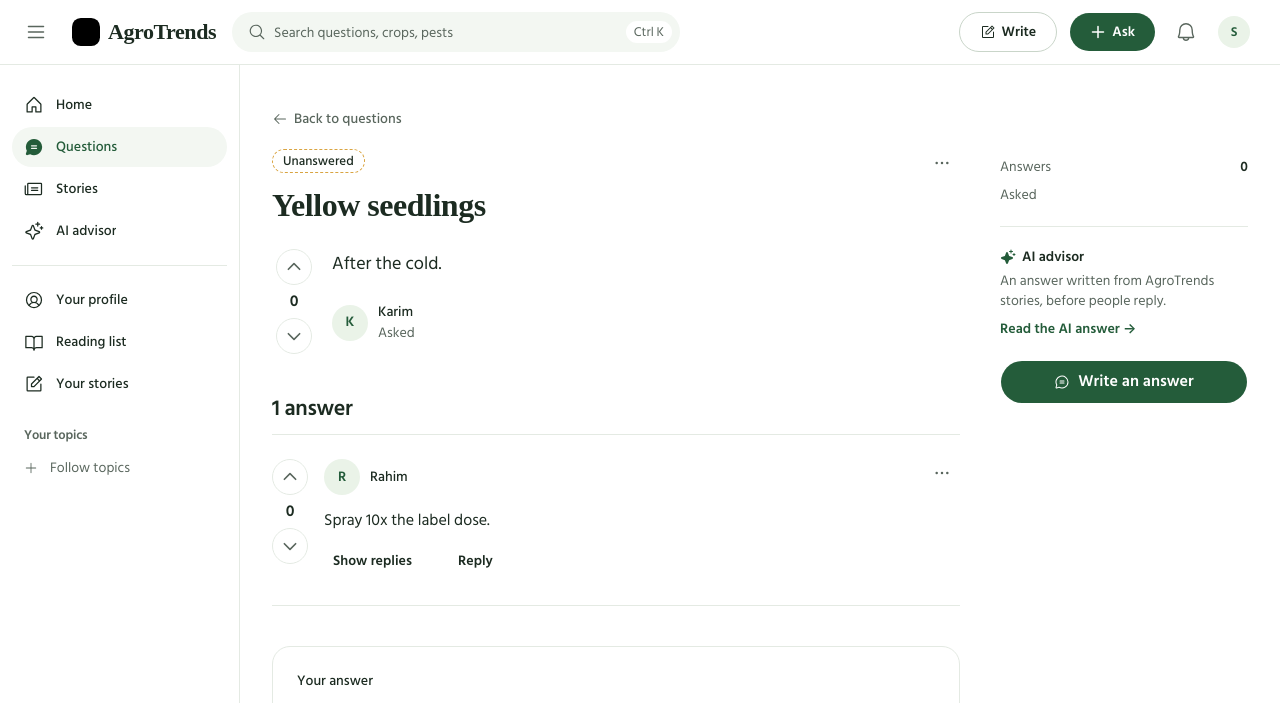
Test case: reporting the same thing again counts as reported (409)
Expected: the heading "Yellow seedlings" is shown, [272,187,486,223]
Click the button named "More actions" in the row of "Unanswered".
click(942, 163)  # box [924,145,960,181]
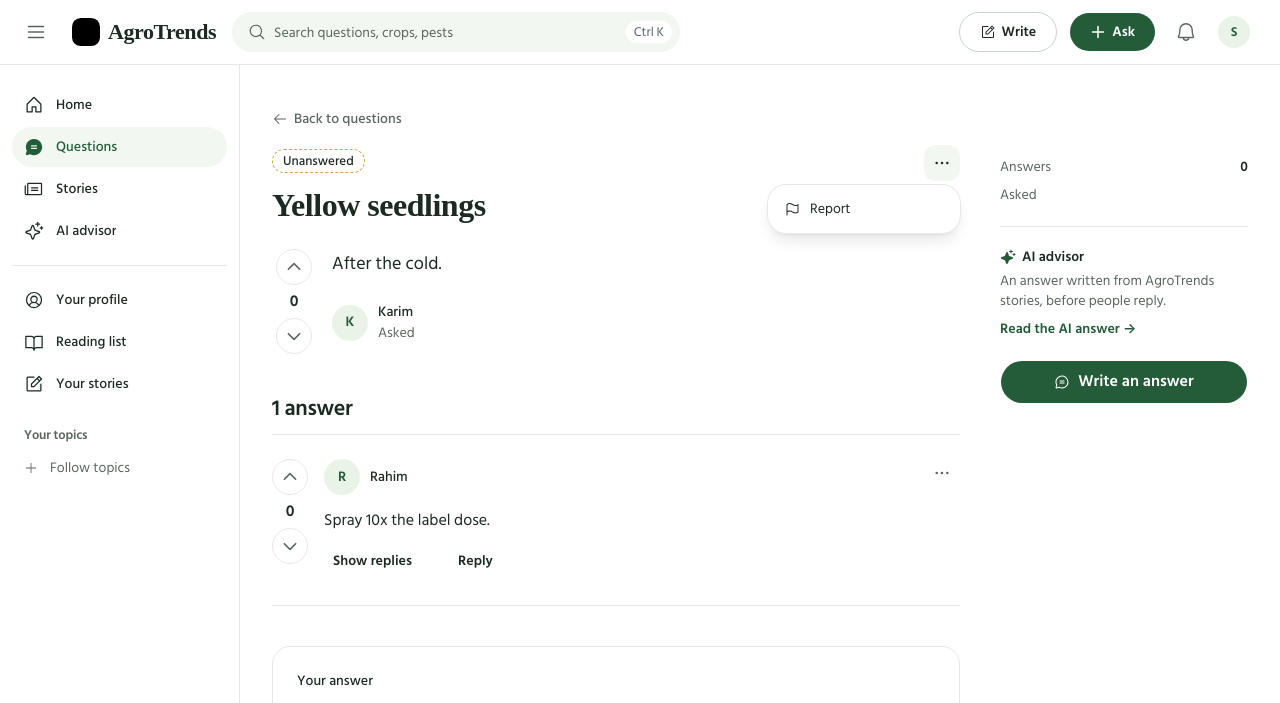
Click the menu item "Report".
click(817, 208)  # box [784,197,850,220]
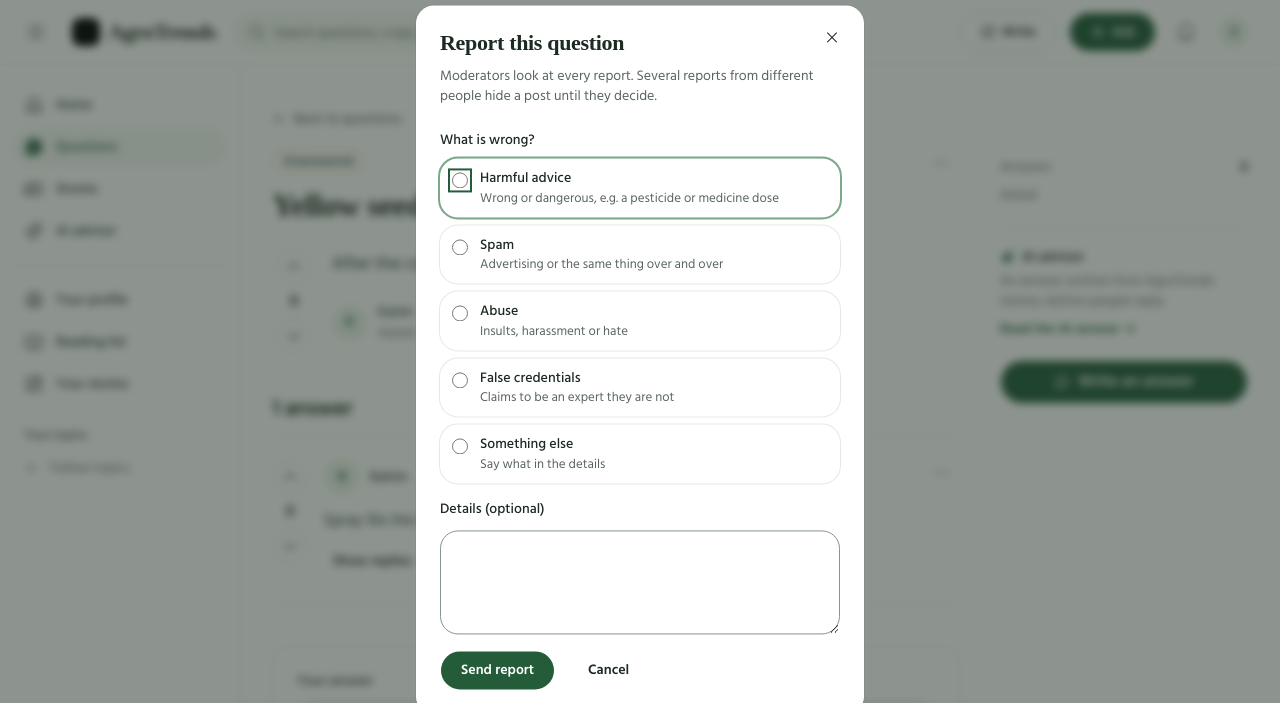
Click the radio button labelled "Spam Advertising or the same thing over and over".
click(460, 247)  # box [452,239,468,255]
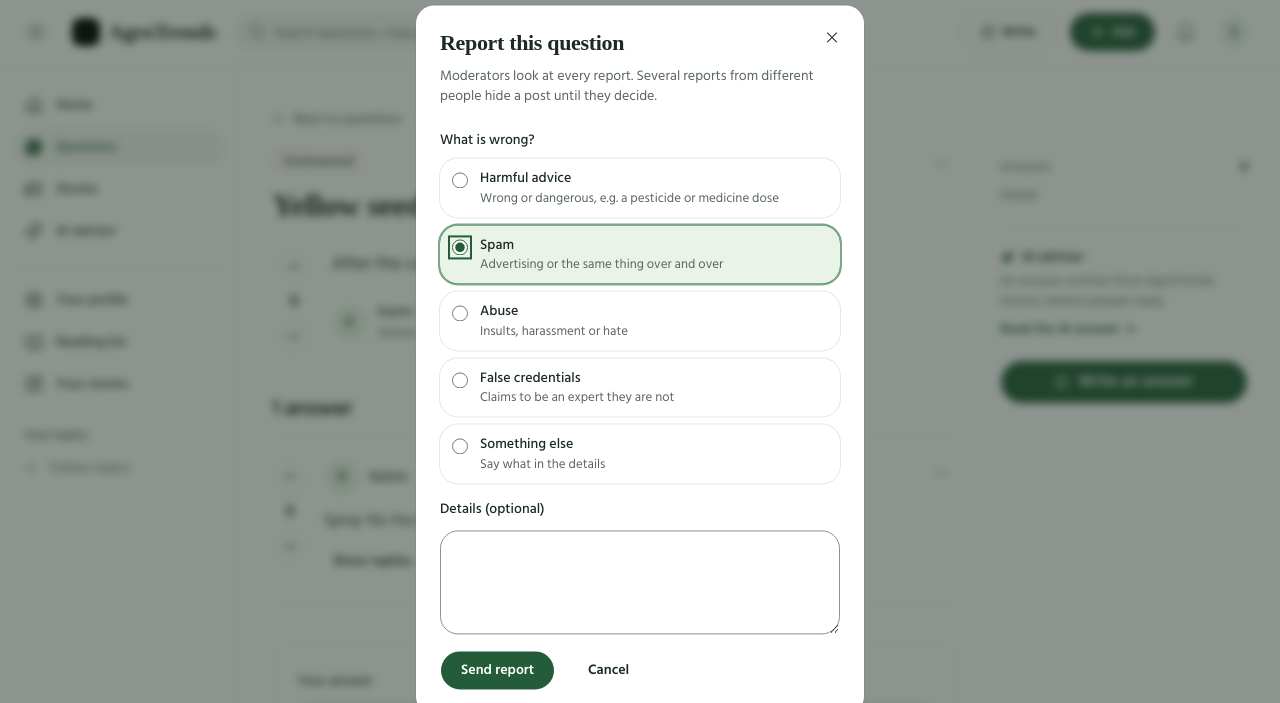
Click the button "Send report".
click(498, 671)  # box [440,651,555,691]
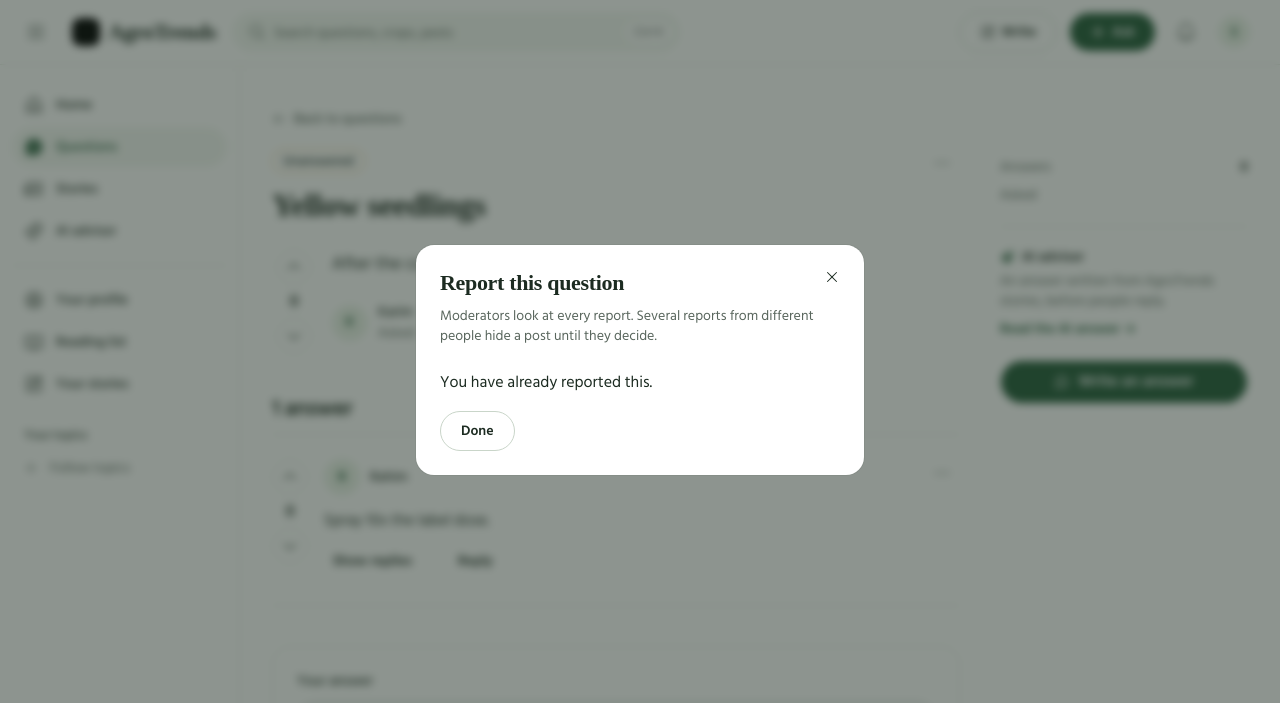
Expected: the text "You have already reported this." is shown, [440,369,652,395]
